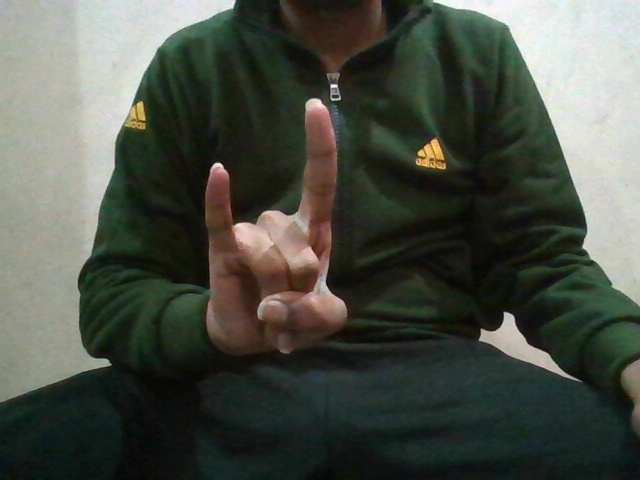U: (201, 152, 349, 356)
